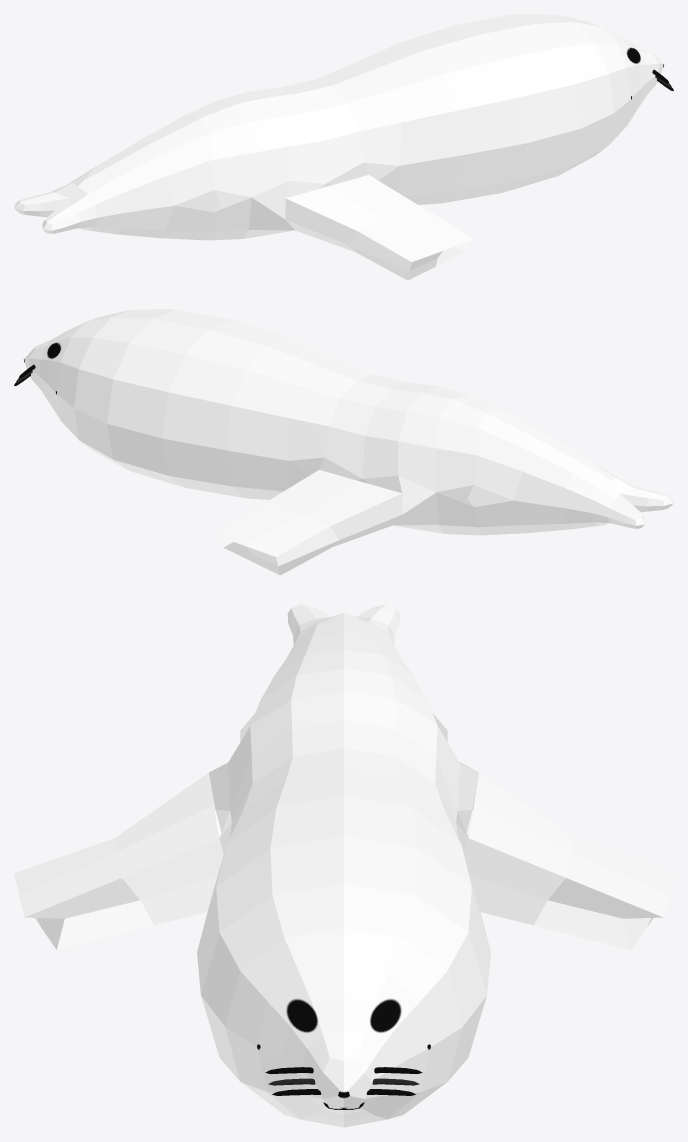
File: Arazashi_K.glb
3 views of the same model, one above another, from view 1: azimuth 30°, elevation 25°; view 2: azimuth 150°, elevation 25°; view 3: azimuth 270°, elevation 25° (orthographic). The views are drawn at different scales.
Parts seen in each view (by area): view 1: Cube; view 2: Cube; view 3: Cube.
Part boxes in pixels (x1,y1,x2,y2): Cube: (14,14,673,280); Cube: (14,309,673,575); Cube: (14,604,673,1127).
Bounding box in the file's own units: 11.8 × 2.63 × 6.8.
Materials: 1 (1 with a texture image).
